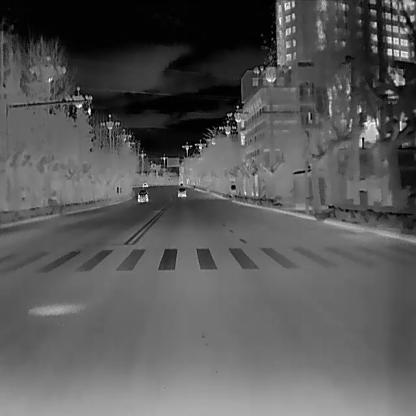car: (136, 189, 149, 203), (177, 186, 186, 196)
